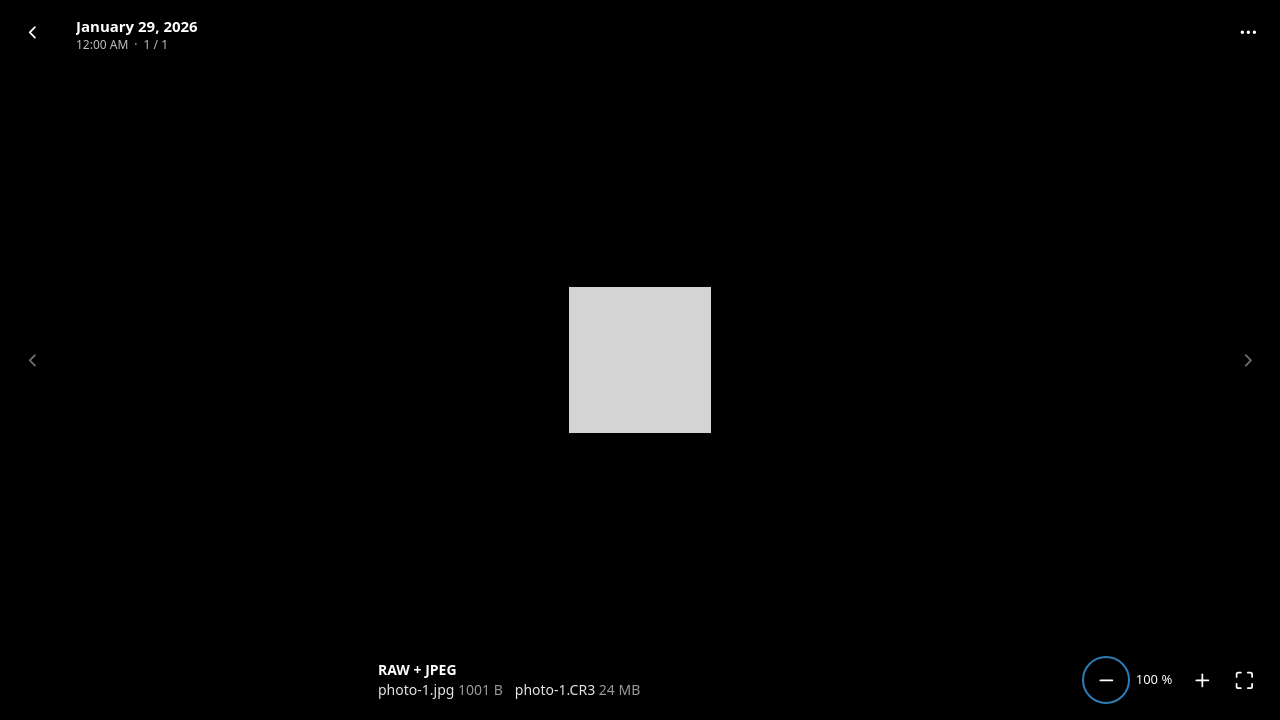
it: Lightbox › download › offers both files of a RAW + JPEG pair, with sizes
Expected: the menu item "Download" is not shown
Click the button named "More" at (1248, 32), box [1228,12,1268,52]
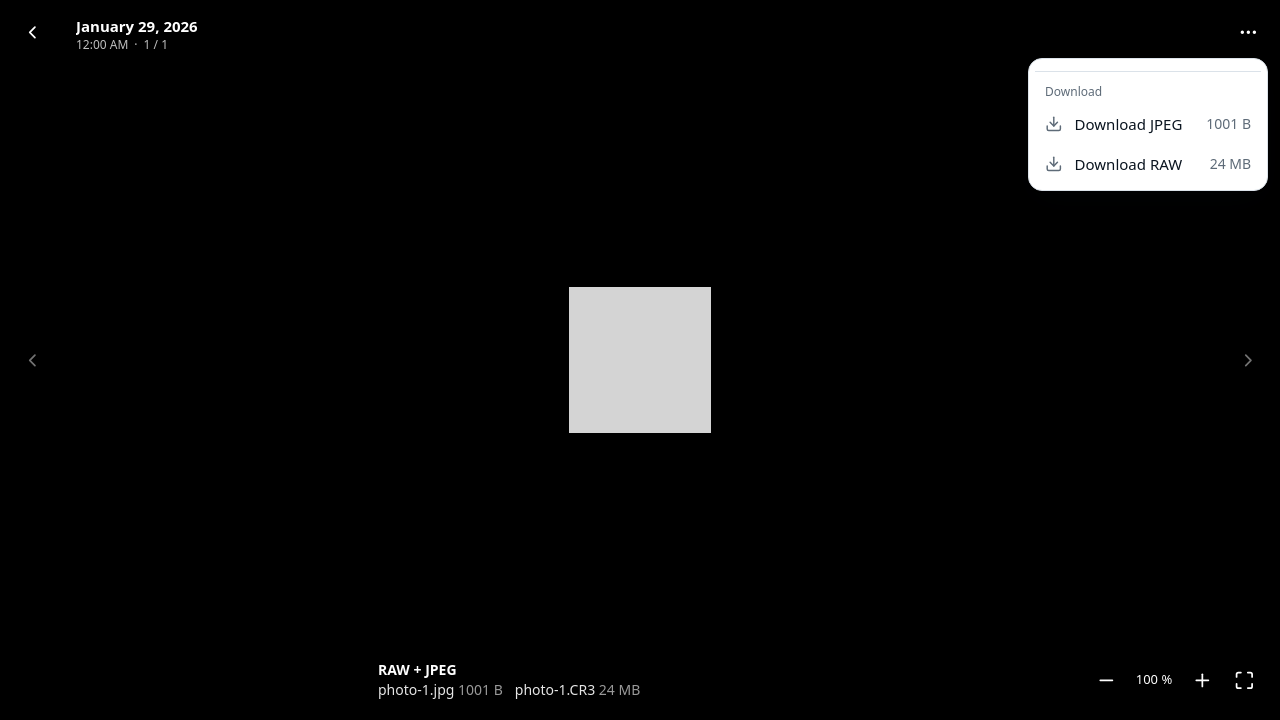
Expected: the menu item "Download JPEG 1001 B" is shown, [1045,114,1251,134]
Expected: the menu item "Download RAW 24 MB" is shown, [1045,154,1251,174]
Press Escape
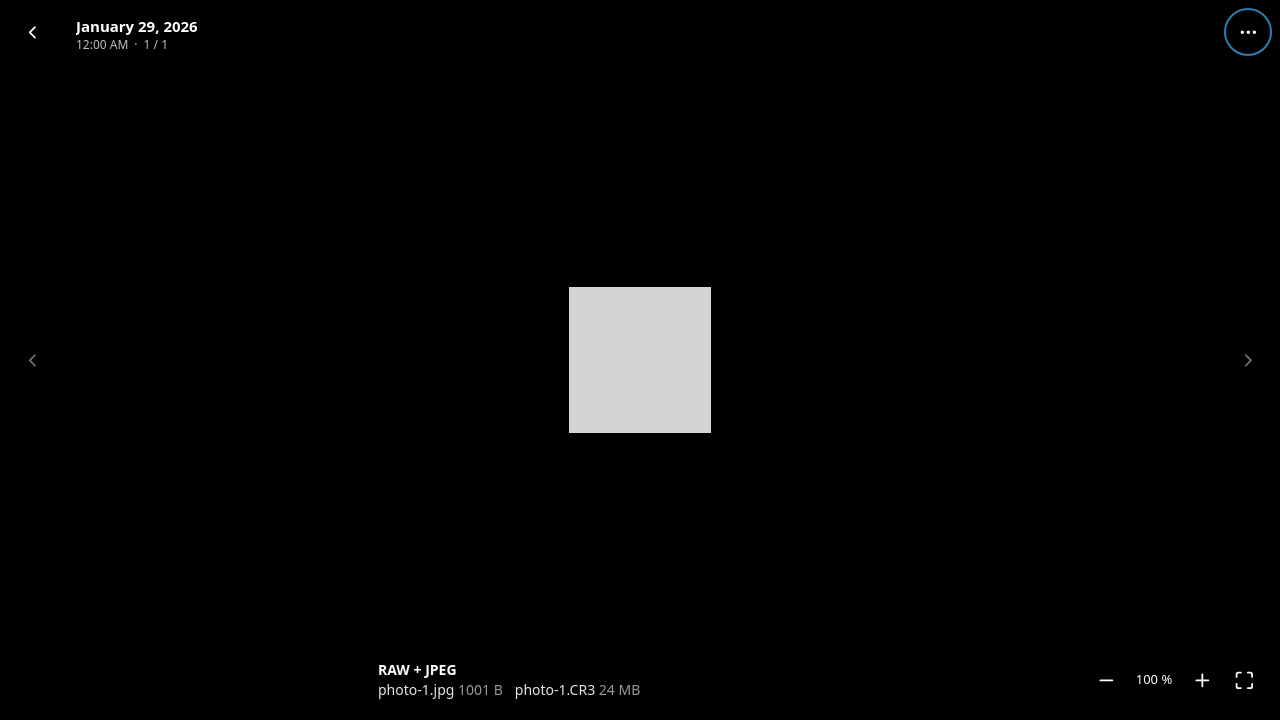
Expected: the menu item "Download RAW" is gone
